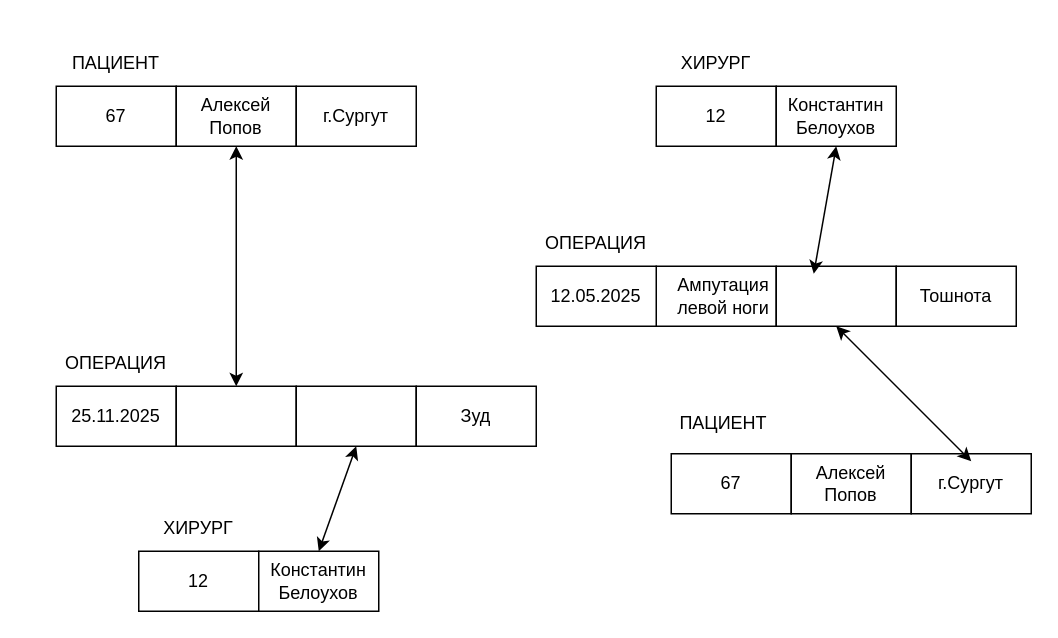
The diagram is 1058 pixels wide and 638 high, and some of its shapes have lost their labels. Here are the shapes that lost their labels. From the top down, the centre of each, then its label:
At [835,295]: "Анальгин".
At [235,415]: "Удаление аппендицита".
At [355,415]: "Парацетомол".
